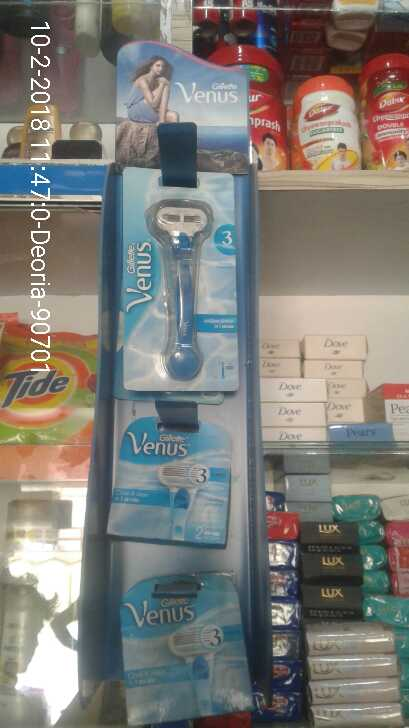beauty: (120, 163, 243, 397), (117, 563, 255, 723), (109, 414, 232, 550)
home: (5, 312, 96, 452)
